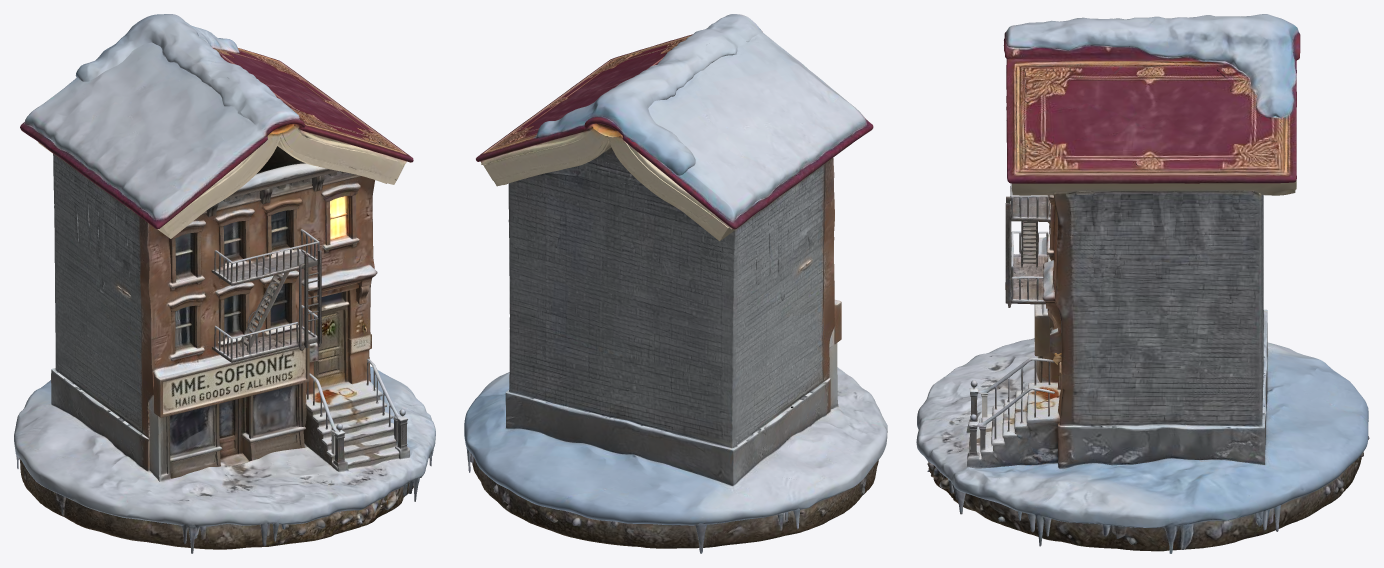
Rendered from gift-of-the-magi.glb.
3 views of the same model, side by side, from view 1: azimuth 30°, elevation 25°; view 2: azimuth 150°, elevation 25°; view 3: azimuth 270°, elevation 25° (orthographic). The views are drawn at different scales.
Visible parts, largest first — view 1: model; view 2: model; view 3: model.
Part boxes in pixels (box(x1,y1,x2,y2)): model: box(14, 14, 435, 553); model: box(464, 14, 887, 553); model: box(916, 14, 1369, 553).
Bounding box in the file's own units: 1.75 × 1.9 × 1.75.
Materials: 1 (1 with a texture image).
